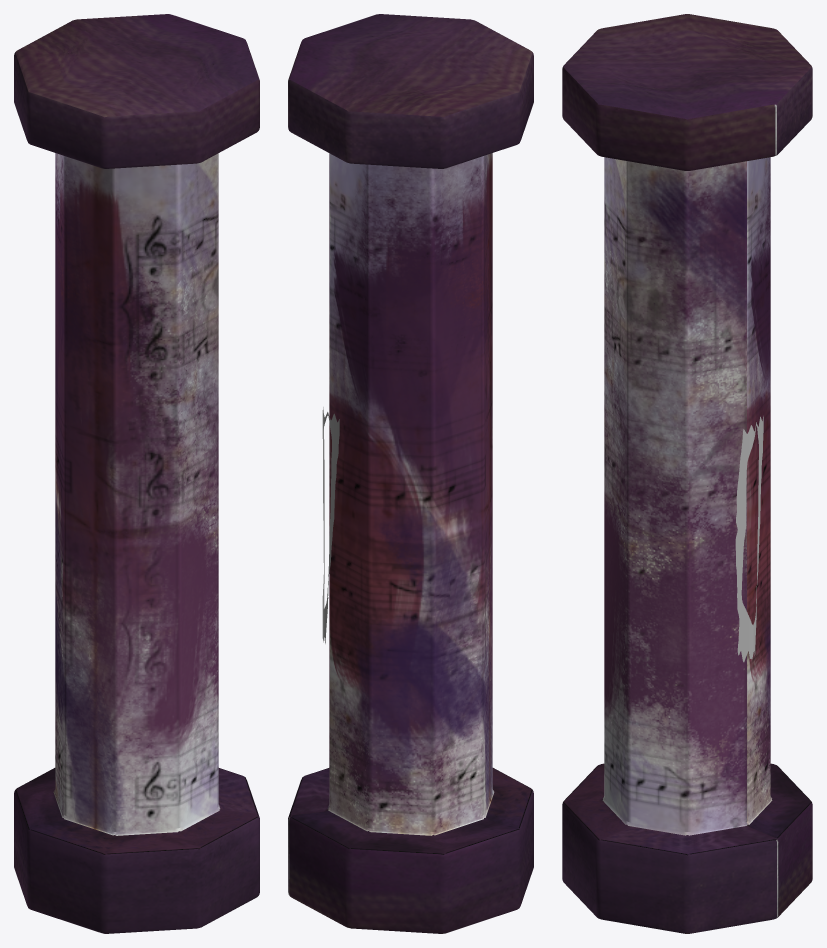
The model's file is MANOR_PILLAR_THIN.obj.
The picture shows the model from 3 angles, left to right: view 1: azimuth 30°, elevation 25°; view 2: azimuth 150°, elevation 25°; view 3: azimuth 270°, elevation 25°; orthographic projection.
Visible parts, largest first — view 1: MANOR_PILLAR_THIN.002; view 2: MANOR_PILLAR_THIN.002; view 3: MANOR_PILLAR_THIN.002.
Boxes of the visible parts, x1,y1,x2,y2 form: MANOR_PILLAR_THIN.002: (14,14,259,933); MANOR_PILLAR_THIN.002: (288,14,533,933); MANOR_PILLAR_THIN.002: (562,14,812,933).
Size of the model in its own units: 0.8335 by 3 by 0.8335.
